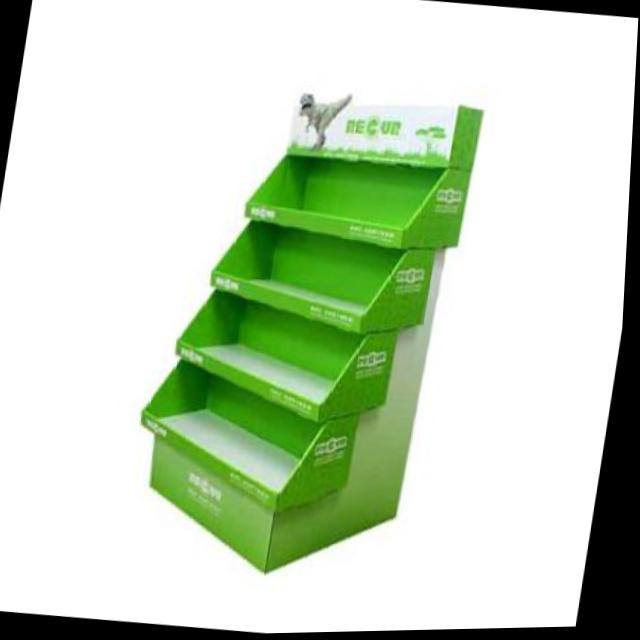box: (115, 46, 499, 602)
